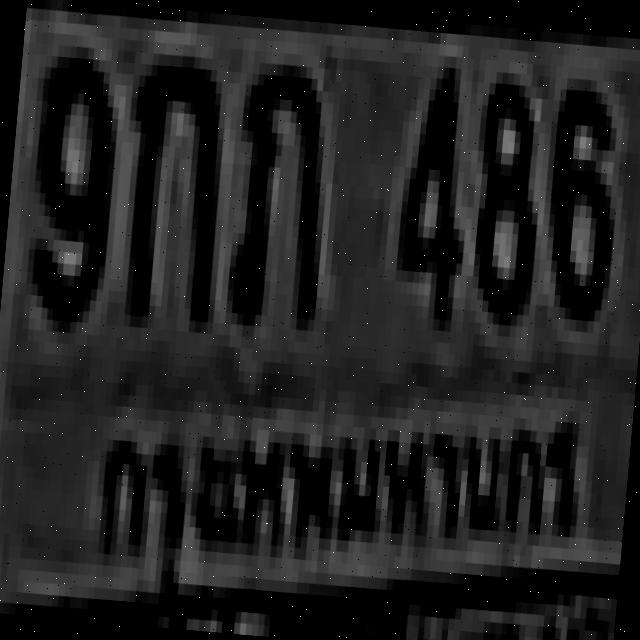10GorGai: (112, 41, 225, 322)
4: (390, 58, 470, 314)
41PhorSamPhao: (222, 49, 328, 318)
6: (536, 77, 620, 310)
8: (464, 70, 544, 314)
9: (17, 43, 118, 323)
Bangkok: (71, 368, 604, 615)
